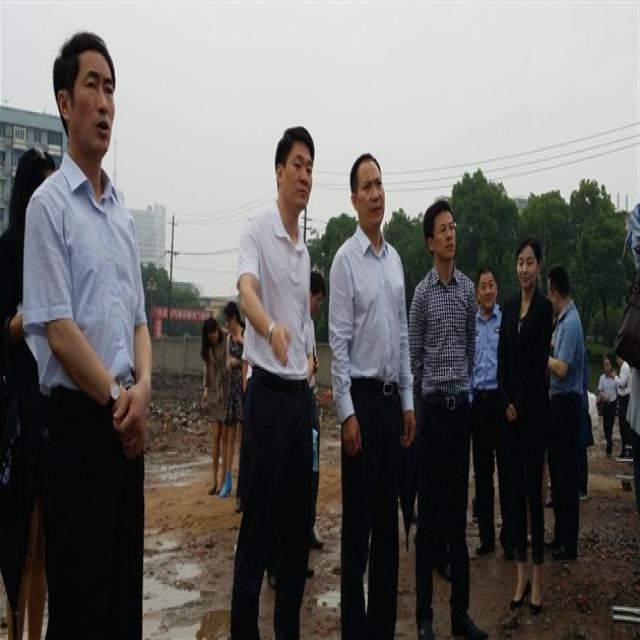Sin_Casco_Mascarrilla: (275, 122, 317, 213), (349, 153, 388, 232)
Sin_Chaleco: (24, 161, 142, 384), (409, 266, 477, 395)
